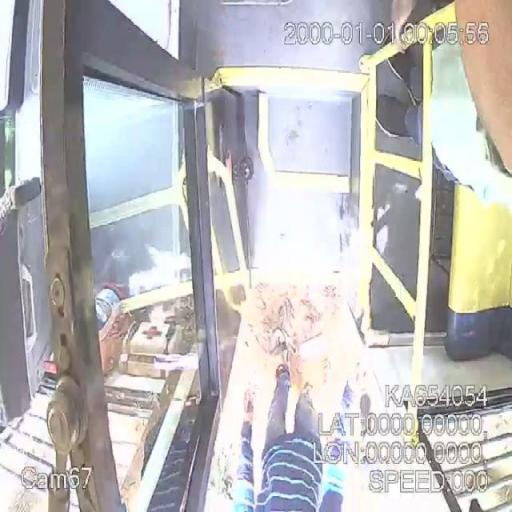persona: (231, 363, 352, 511)
